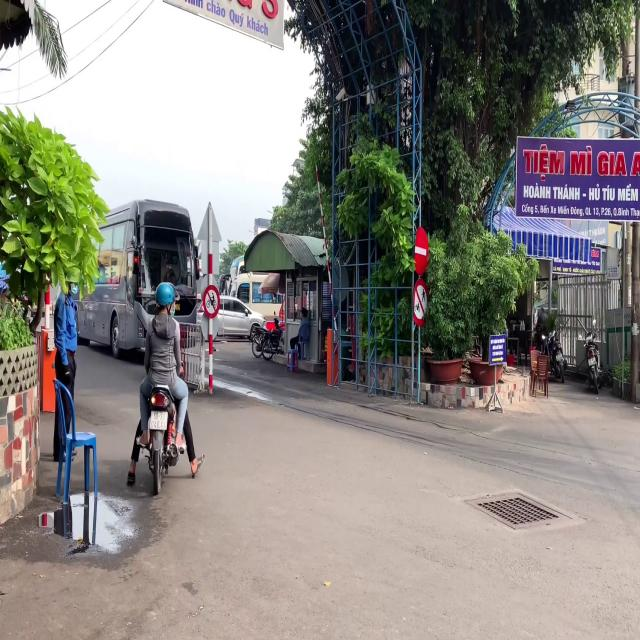bien_trang: (150, 411, 169, 432)
